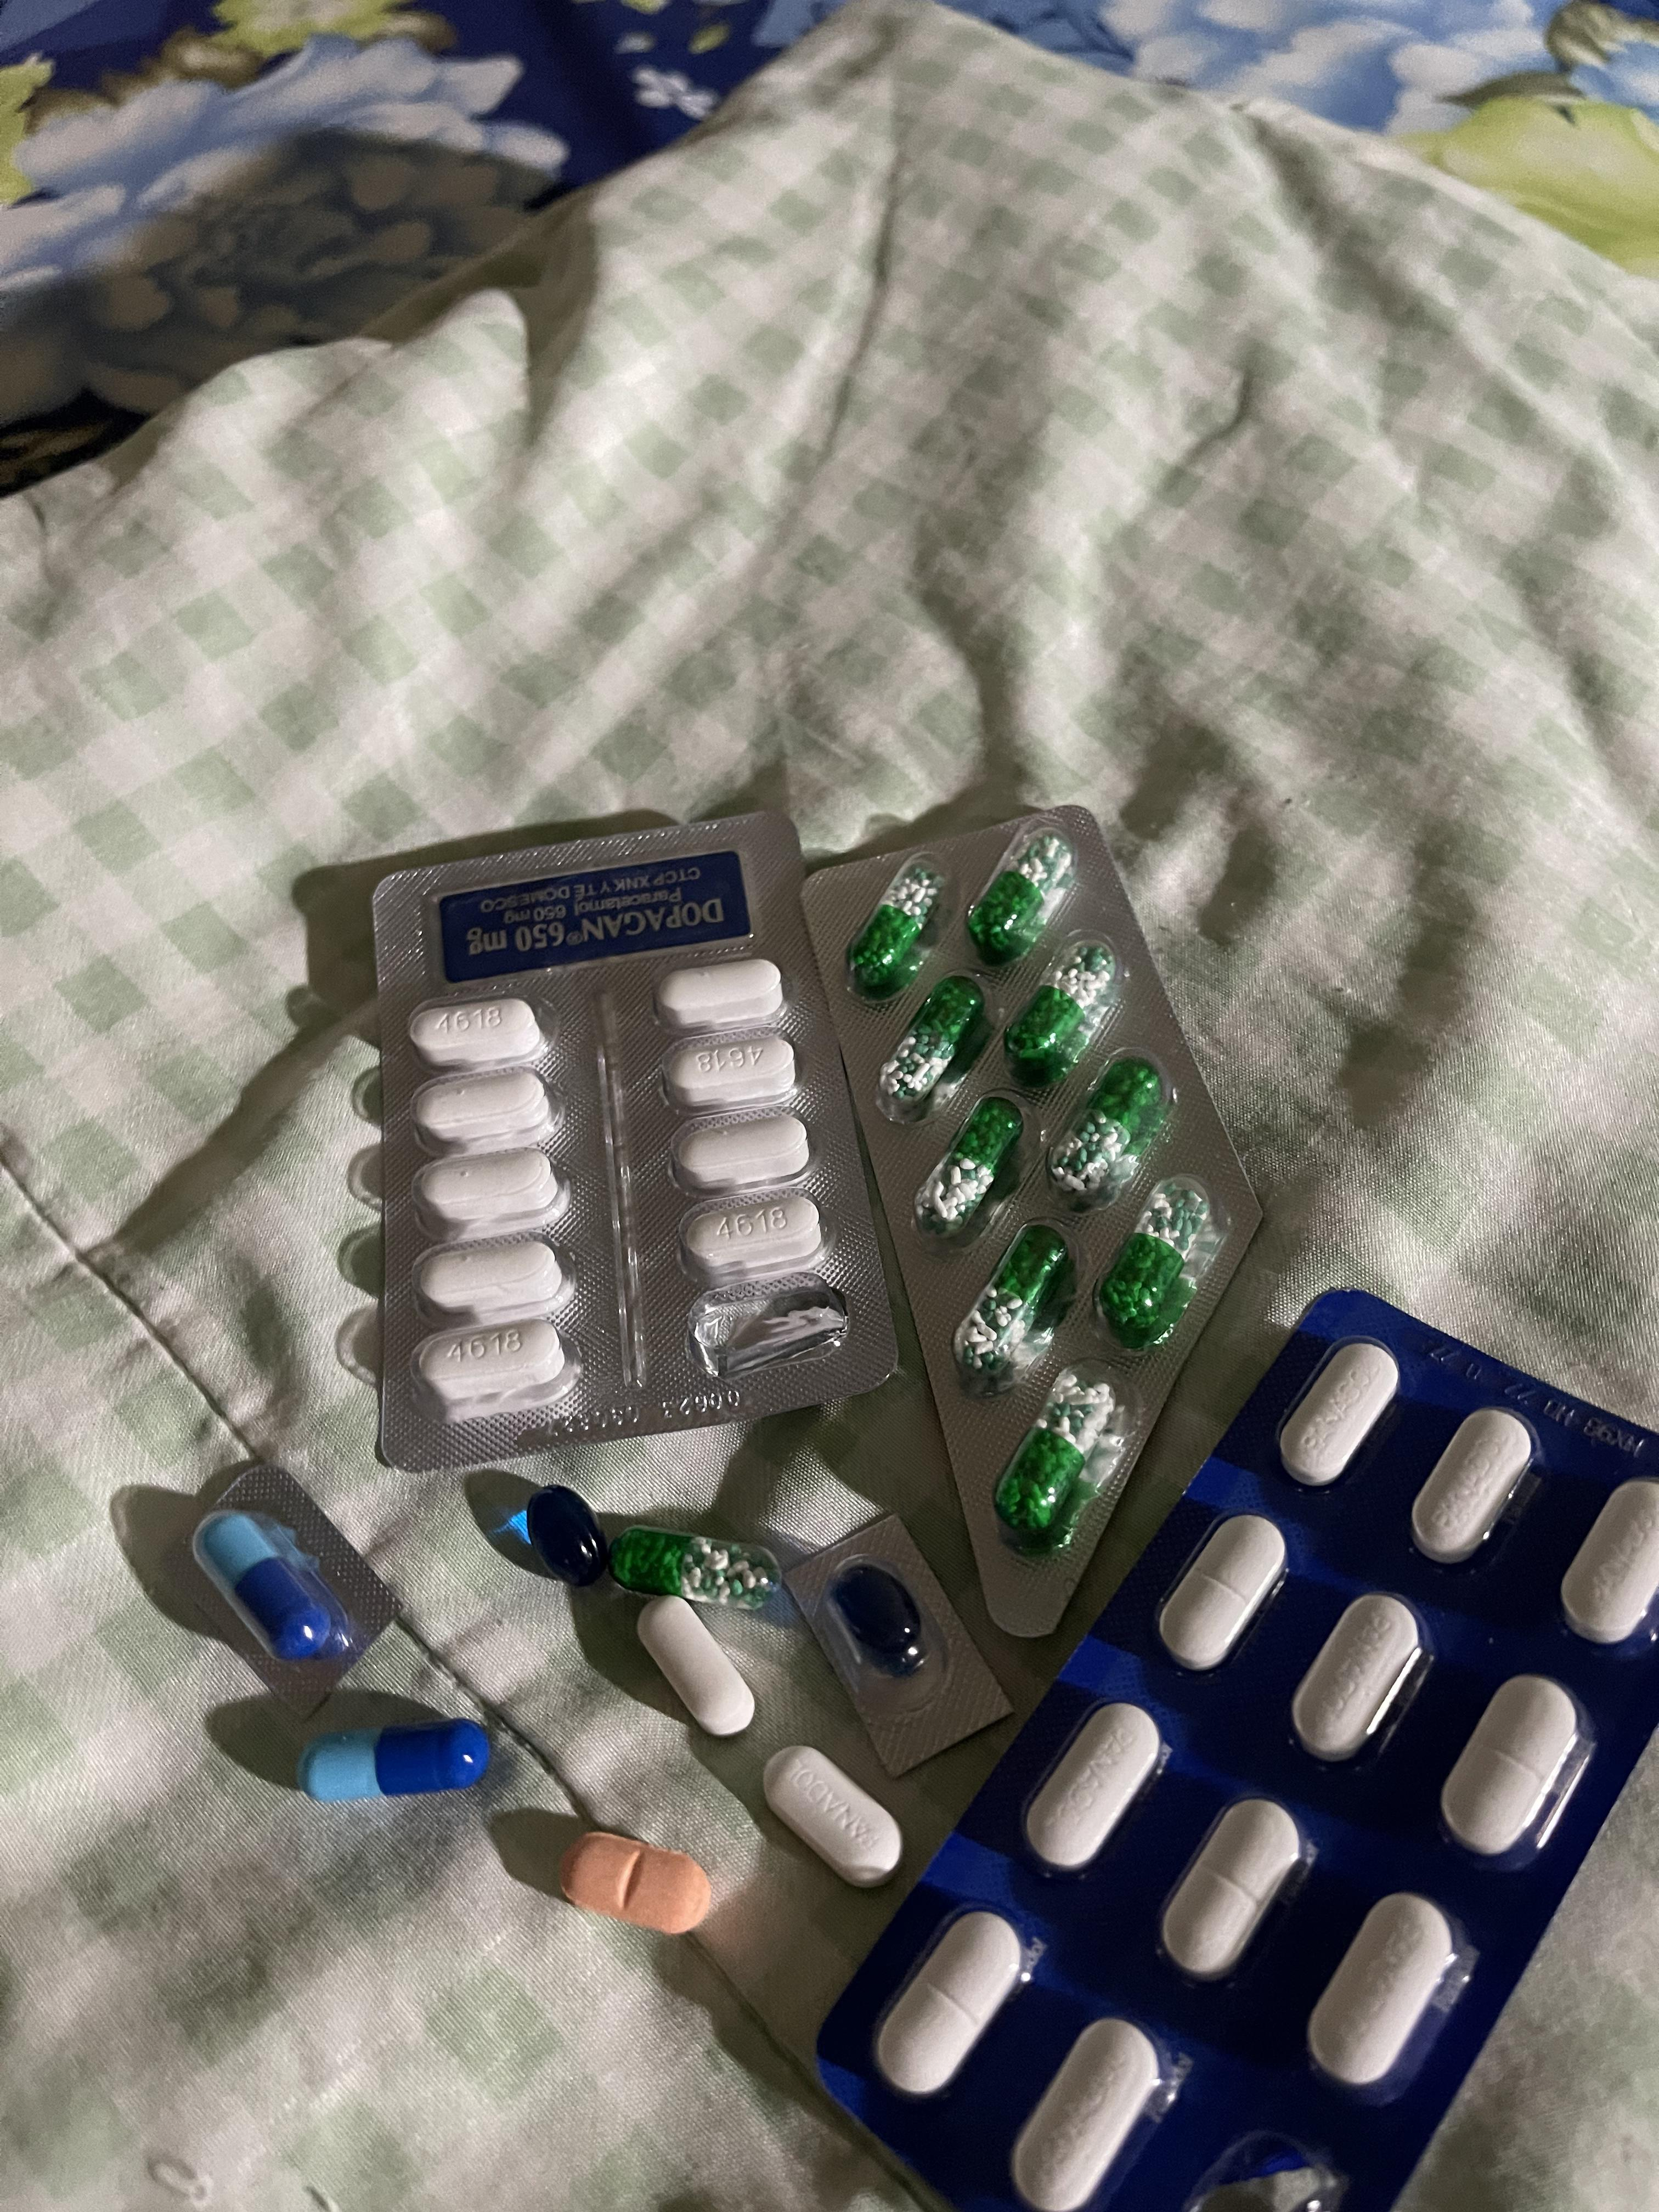Lincomyxin_500mg: (830, 1564, 929, 1677), (526, 1482, 612, 1588)
Loratadine_10mg: (559, 1831, 713, 1933)
Paracetamol_350mg: (1310, 1892, 1466, 2092), (1011, 2015, 1168, 2210), (873, 1907, 1021, 2102), (1439, 1672, 1588, 1862), (1159, 1794, 1304, 1982), (1290, 1588, 1429, 1766), (1023, 1702, 1161, 1876), (1155, 1510, 1283, 1669), (1412, 1407, 1537, 1566), (763, 1745, 897, 1892), (1279, 1341, 1403, 1486), (1560, 1479, 1659, 1646)
Paracetamol_500mg: (638, 1595, 753, 1740), (418, 1320, 573, 1421), (418, 1146, 563, 1235), (418, 1237, 566, 1320), (683, 1193, 823, 1278), (415, 1069, 554, 1151), (674, 1116, 812, 1195), (664, 1033, 795, 1113), (410, 995, 544, 1071), (655, 961, 782, 1035)
Paracetamol_650mg: (985, 1374, 1122, 1536), (1094, 1176, 1216, 1352), (953, 1223, 1075, 1392), (1047, 1054, 1166, 1204), (1004, 939, 1119, 1080), (915, 1096, 1023, 1242), (878, 974, 988, 1115), (601, 1524, 779, 1608), (971, 833, 1072, 963), (849, 864, 945, 993)
pill: (195, 1501, 366, 1663), (298, 1721, 493, 1803)
